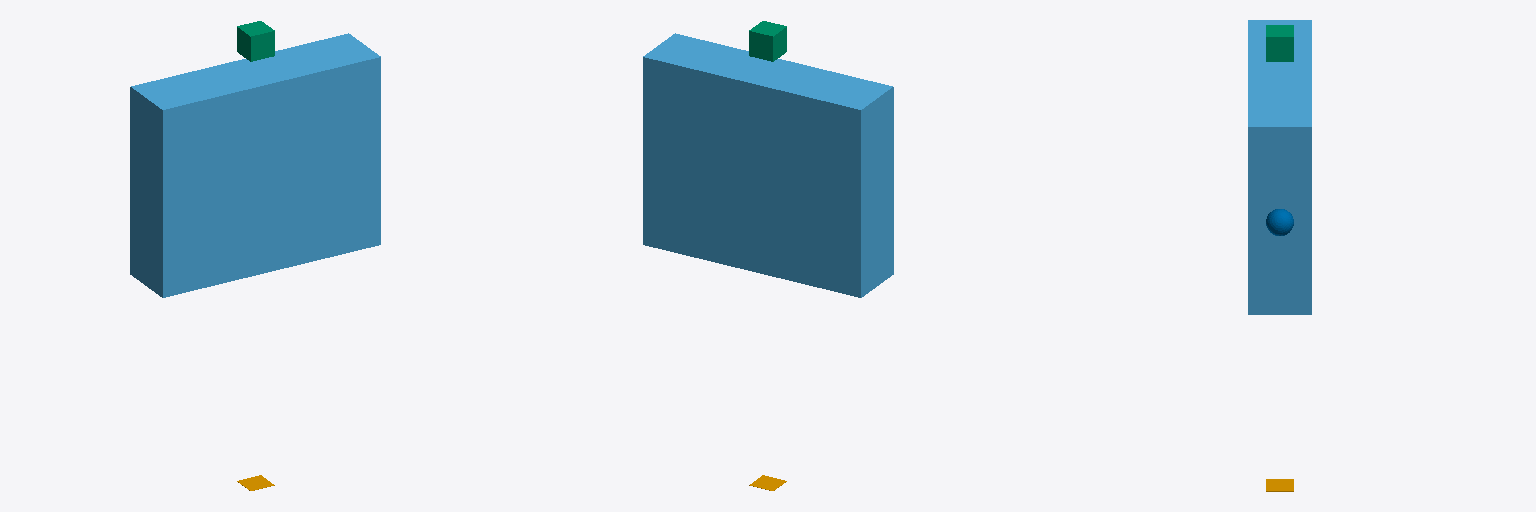
The robot description file, URDF, robot "test_model":
<robot name="test_model">
  
  <material name="blue">
    <color rgba="0 0 0.8 1"/>
  </material>

  <!-- root link, on the ground just below the model origin -->
  <link name="base_footprint">
   <visual>
      <origin xyz="0 0 0" rpy="0 0 0" />
      <geometry>
        <box size="0.1 0.1 0.001" />
      </geometry>
    </visual>
  </link>

  <joint name="base_link_joint" type="fixed">
    <origin xyz="0.0 0 1.25" rpy="0 0 0" />
    <parent link="base_footprint"/>
    <child link="base_link" />
  </joint>

  <!-- the model -->
  <link name="base_link">
    <inertial>
      <mass value="50" />
      <origin xyz="0 0 -1.25" />
      <inertia ixx="50.0" ixy="0.0" ixz="0.0"
        iyy="50.0" iyz="0.0"
        izz="50.0" />
    </inertial>
    <visual>
      <geometry>
        <box size="0.9 0.23 .74" /> <!-- does not need to match collision -->
      </geometry>
    </visual>
    <collision>
      <origin xyz="0 0 -1.0" />
      <geometry>
        <cylinder length="0.5" radius="0.25" />
      </geometry>
    </collision>
  </link>


    <joint name="camera_joint" type="fixed">
    <axis xyz="0 1 0" />
    <origin xyz="0 0 0.49" rpy="0 0 0"/>
    <parent link="base_link"/>
    <child link="camera_link"/>
  </joint>

  <!-- Camera -->
  <link name="camera_link">
    <collision>
      <origin xyz="0 0 0" rpy="0 0 0"/>
      <geometry>
    <box size=".1 .1 .1"/> 
      </geometry>
    </collision>

    <visual>
      <origin xyz="0 0 0" rpy="0 0 0"/>
      <geometry>
    <box size=".1 .1 .1"/>
      </geometry>
      <material name="red"/>
    </visual>

    <inertial>
      <mass value="1e-5" />
      <origin xyz="0 0 0" rpy="0 0 0"/>
      <inertia ixx="1e-6" ixy="0" ixz="0" iyy="1e-6" iyz="0" izz="1e-6" />
    </inertial>
  </link>

  <gazebo>
    <plugin name="object_controller" filename="libgazebo_ros_planar_move.so">
      <commandTopic>cmd_vel</commandTopic>
      <odometryTopic>odom</odometryTopic>
      <odometryFrame>odom</odometryFrame>
      <odometryRate>20.0</odometryRate>
      <robotBaseFrame>base_footprint</robotBaseFrame>
    </plugin>
  </gazebo>

   <gazebo reference="camera_link">
    <sensor type="camera" name="camera1">
      <update_rate>30.0</update_rate>
      <camera name="head">
        <horizontal_fov>1.3962634</horizontal_fov>
        <image>
          <width>800</width>
          <height>800</height>
          <format>R8G8B8</format>
        </image>
        <clip>
          <near>0.02</near>
          <far>300</far>
        </clip>
        <noise>
          <type>gaussian</type>
          <!-- Noise is sampled independently per pixel on each frame.
               That pixel's noise value is added to each of its color
               channels, which at that point lie in the range [0,1]. -->
          <mean>0.0</mean>
          <stddev>0.007</stddev>
        </noise>
      </camera>
      <plugin name="camera_controller" filename="libgazebo_ros_camera.so">
        <alwaysOn>true</alwaysOn>
        <updateRate>0.0</updateRate>
        <cameraName>floatinghead/camera1</cameraName>
        <imageTopicName>image_raw</imageTopicName>
        <cameraInfoTopicName>camera_info</cameraInfoTopicName>
        <frameName>camera_link</frameName>
        <hackBaseline>0.07</hackBaseline>
        <distortionK1>0.0</distortionK1>
        <distortionK2>0.0</distortionK2>
        <distortionK3>0.0</distortionK3>
        <distortionT1>0.0</distortionT1>
        <distortionT2>0.0</distortionT2>
      </plugin>
    </sensor>
  </gazebo>
  
  <joint name="laser_joint" type="fixed">
        <axis xyz="0 0 0" />
        <origin xyz="0 0 0.40" rpy="0 0 0"/>    
        <parent link="base_link"/>
        <child link="laser_link"/>
    </joint>

    <link name="laser_link">
     <collision>
      <origin xyz="0 0 0" rpy="0 0 0"/>
      <geometry>
    <sphere radius=".2"/>
      </geometry>
    </collision>
      
       <visual>
      <origin xyz="0 0 0" rpy="0 0 0"/>
      <geometry>
    <mesh filename="package://floatinghead_description/meshes/lidar.dae"/>
      </geometry>
      <material name="red"/>
    </visual>
    </link>

    <gazebo reference="laser_link">
     <sensor type="gpu_ray" name="head_hokuyo_sensor">
      <pose>0 0 0 0 0 0</pose>
      <visualize>true</visualize>
      <update_rate>40</update_rate>
      <ray>
        <scan>
          <horizontal>
            <samples>720</samples>
            <resolution>1</resolution>
            <min_angle>-3.14159</min_angle>
            <max_angle>3.14159</max_angle>
          </horizontal>
        </scan>
        <range>
          <min>0.10</min>
          <max>30.0</max>
          <resolution>0.01</resolution>
        </range>
        <noise>
          <type>gaussian</type>
          <!-- Noise parameters based on published spec for Hokuyo laser
               achieving "+-30mm" accuracy at range < 10m.  A mean of 0.0m and
               stddev of 0.01m will put 99.7% of samples within 0.03m of the true
               reading. -->
          <mean>0.0</mean>
          <stddev>0.01</stddev>
        </noise>
      </ray>
      <plugin name="gazebo_ros_head_hokuyo_controller" filename="libgazebo_ros_gpu_laser.so">
        <visualize>true</visualize>
        <topicName>/scan</topicName>
        <frameName>laser_link</frameName>
      </plugin>
    </sensor>
  </gazebo>

  <joint name="sonic_joint" type="fixed">
        <axis xyz="0 0 0" />
        <origin xyz="0.46 0.0 0.0" rpy="0 1 0"/>    
        <parent link="base_link"/>
        <child link="sonic_link"/>
    </joint>

    <link name="sonic_link">
     <!-- <collision>
      <origin xyz="0 0 0" rpy="0 0 0"/>
      <geometry>
    <sphere radius=".2"/>
      </geometry>
    </collision> -->
      
       <visual>
      <origin xyz="0 0 0" rpy="0 0 0"/>
      <geometry>
    <sphere radius ="0.05"/>
      </geometry>
      <material name="red"/>
    </visual>
    </link>

  <gazebo reference = "sonic_link">
        <sensor type="ray" name="ultrasonic">
          <pose>0.25 0 0 0 0 0</pose>
          <update_rate>5</update_rate>
          <ray>
            <scan>
              <horizontal>
                <samples>5</samples>
                <resolution>1.0</resolution>
                <min_angle>-0.25</min_angle>
                <max_angle>0.25</max_angle>
              </horizontal>
              <vertical>
                <samples>5</samples>
                <resolution>1</resolution>
                <min_angle>-0.25</min_angle>
                <max_angle>0.25</max_angle>
              </vertical>
            </scan>
            <range>
              <min>0.01</min>
              <max>0.7</max>
              <resolution>0.01</resolution>
            </range>
          </ray>
          <plugin filename="libgazebo_ros_range.so" name="gazebo_ros_range">
            <gaussianNoise>0.005</gaussianNoise>
            <alwaysOn>true</alwaysOn>
            <updateRate>5</updateRate>
            <topicName>sonic</topicName>
            <frameName>sonic_link</frameName>
            <fov>0.5</fov>
            <radiation>ultrasound</radiation>
          </plugin>
        </sensor>
  </gazebo>

</robot>

--- Facts derived from the render (not from the file) ---
Views: 3 orthographic renders of the robot side by side, from view 1: azimuth 30°, elevation 25°; view 2: azimuth 150°, elevation 25°; view 3: azimuth 270°, elevation 25°.
Robot: test_model — 5 links, 4 joints (4 fixed); root link base_footprint; default pose: all joints at 0.
Links seen in each view (by area): view 1: base_link, camera_link; view 2: base_link, camera_link; view 3: base_link, camera_link, sonic_link.
Link boxes in pixels (x1,y1,x2,y2): base_link: [130, 33, 380, 297]; camera_link: [237, 21, 274, 61]; base_link: [643, 33, 893, 297]; camera_link: [749, 21, 786, 61]; base_link: [1248, 20, 1311, 314]; camera_link: [1266, 25, 1293, 61]; sonic_link: [1266, 209, 1293, 235].
Size in the robot's own frame: 0.96 by 0.23 by 1.79 metres.
0 mesh visuals loaded from 1 distinct referenced files (none loaded); not drawn: 1 (reference not matched to a file when rendering).
